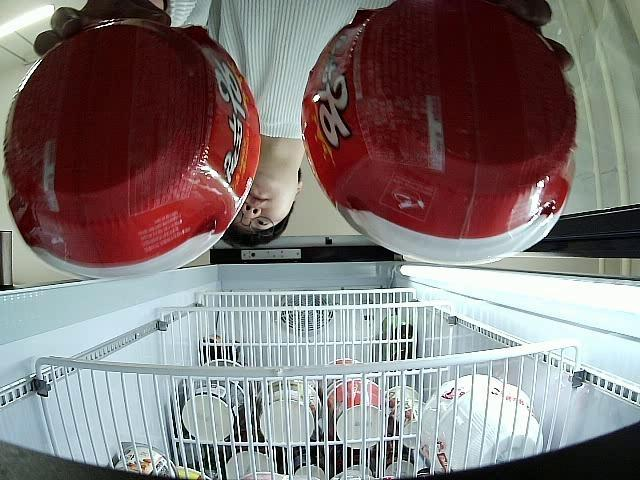10_wangTtukkeong: (300, 1, 576, 270), (1, 20, 260, 280)
